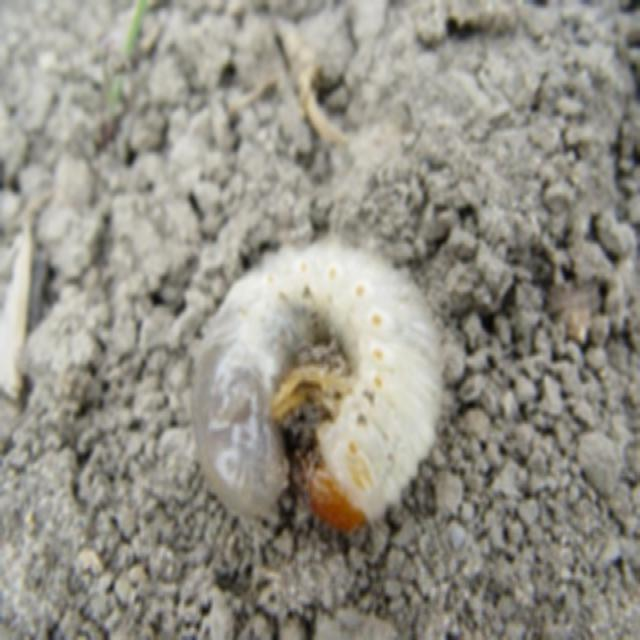grub: (194, 238, 464, 537)
